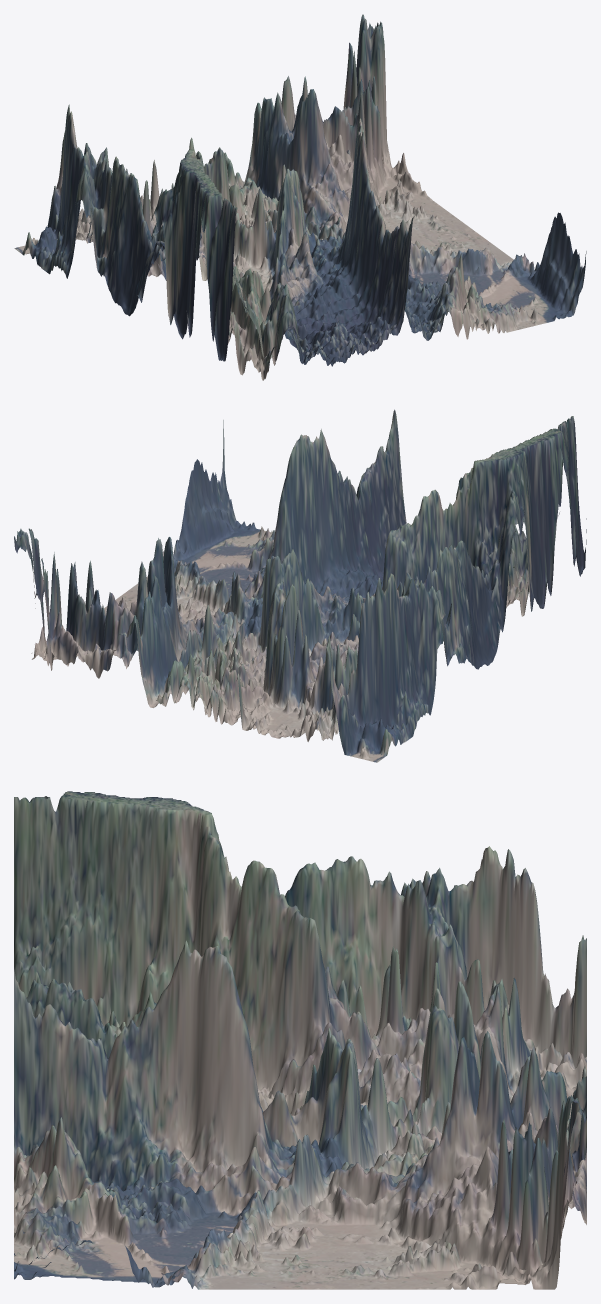
File: dsm_9a2205155d_mesh.glb
3 views of the same model, one above another, from view 1: azimuth 30°, elevation 25°; view 2: azimuth 150°, elevation 25°; view 3: azimuth 270°, elevation 25° (orthographic). The views are drawn at different scales.
Visible parts, largest first — view 1: geometry_0; view 2: geometry_0; view 3: geometry_0.
Part boxes in pixels (x1,y1,x2,y2): geometry_0: (14, 14, 586, 380); geometry_0: (14, 409, 586, 762); geometry_0: (14, 791, 586, 1289).
Size of the model in its own units: 2 by 1 by 2.
